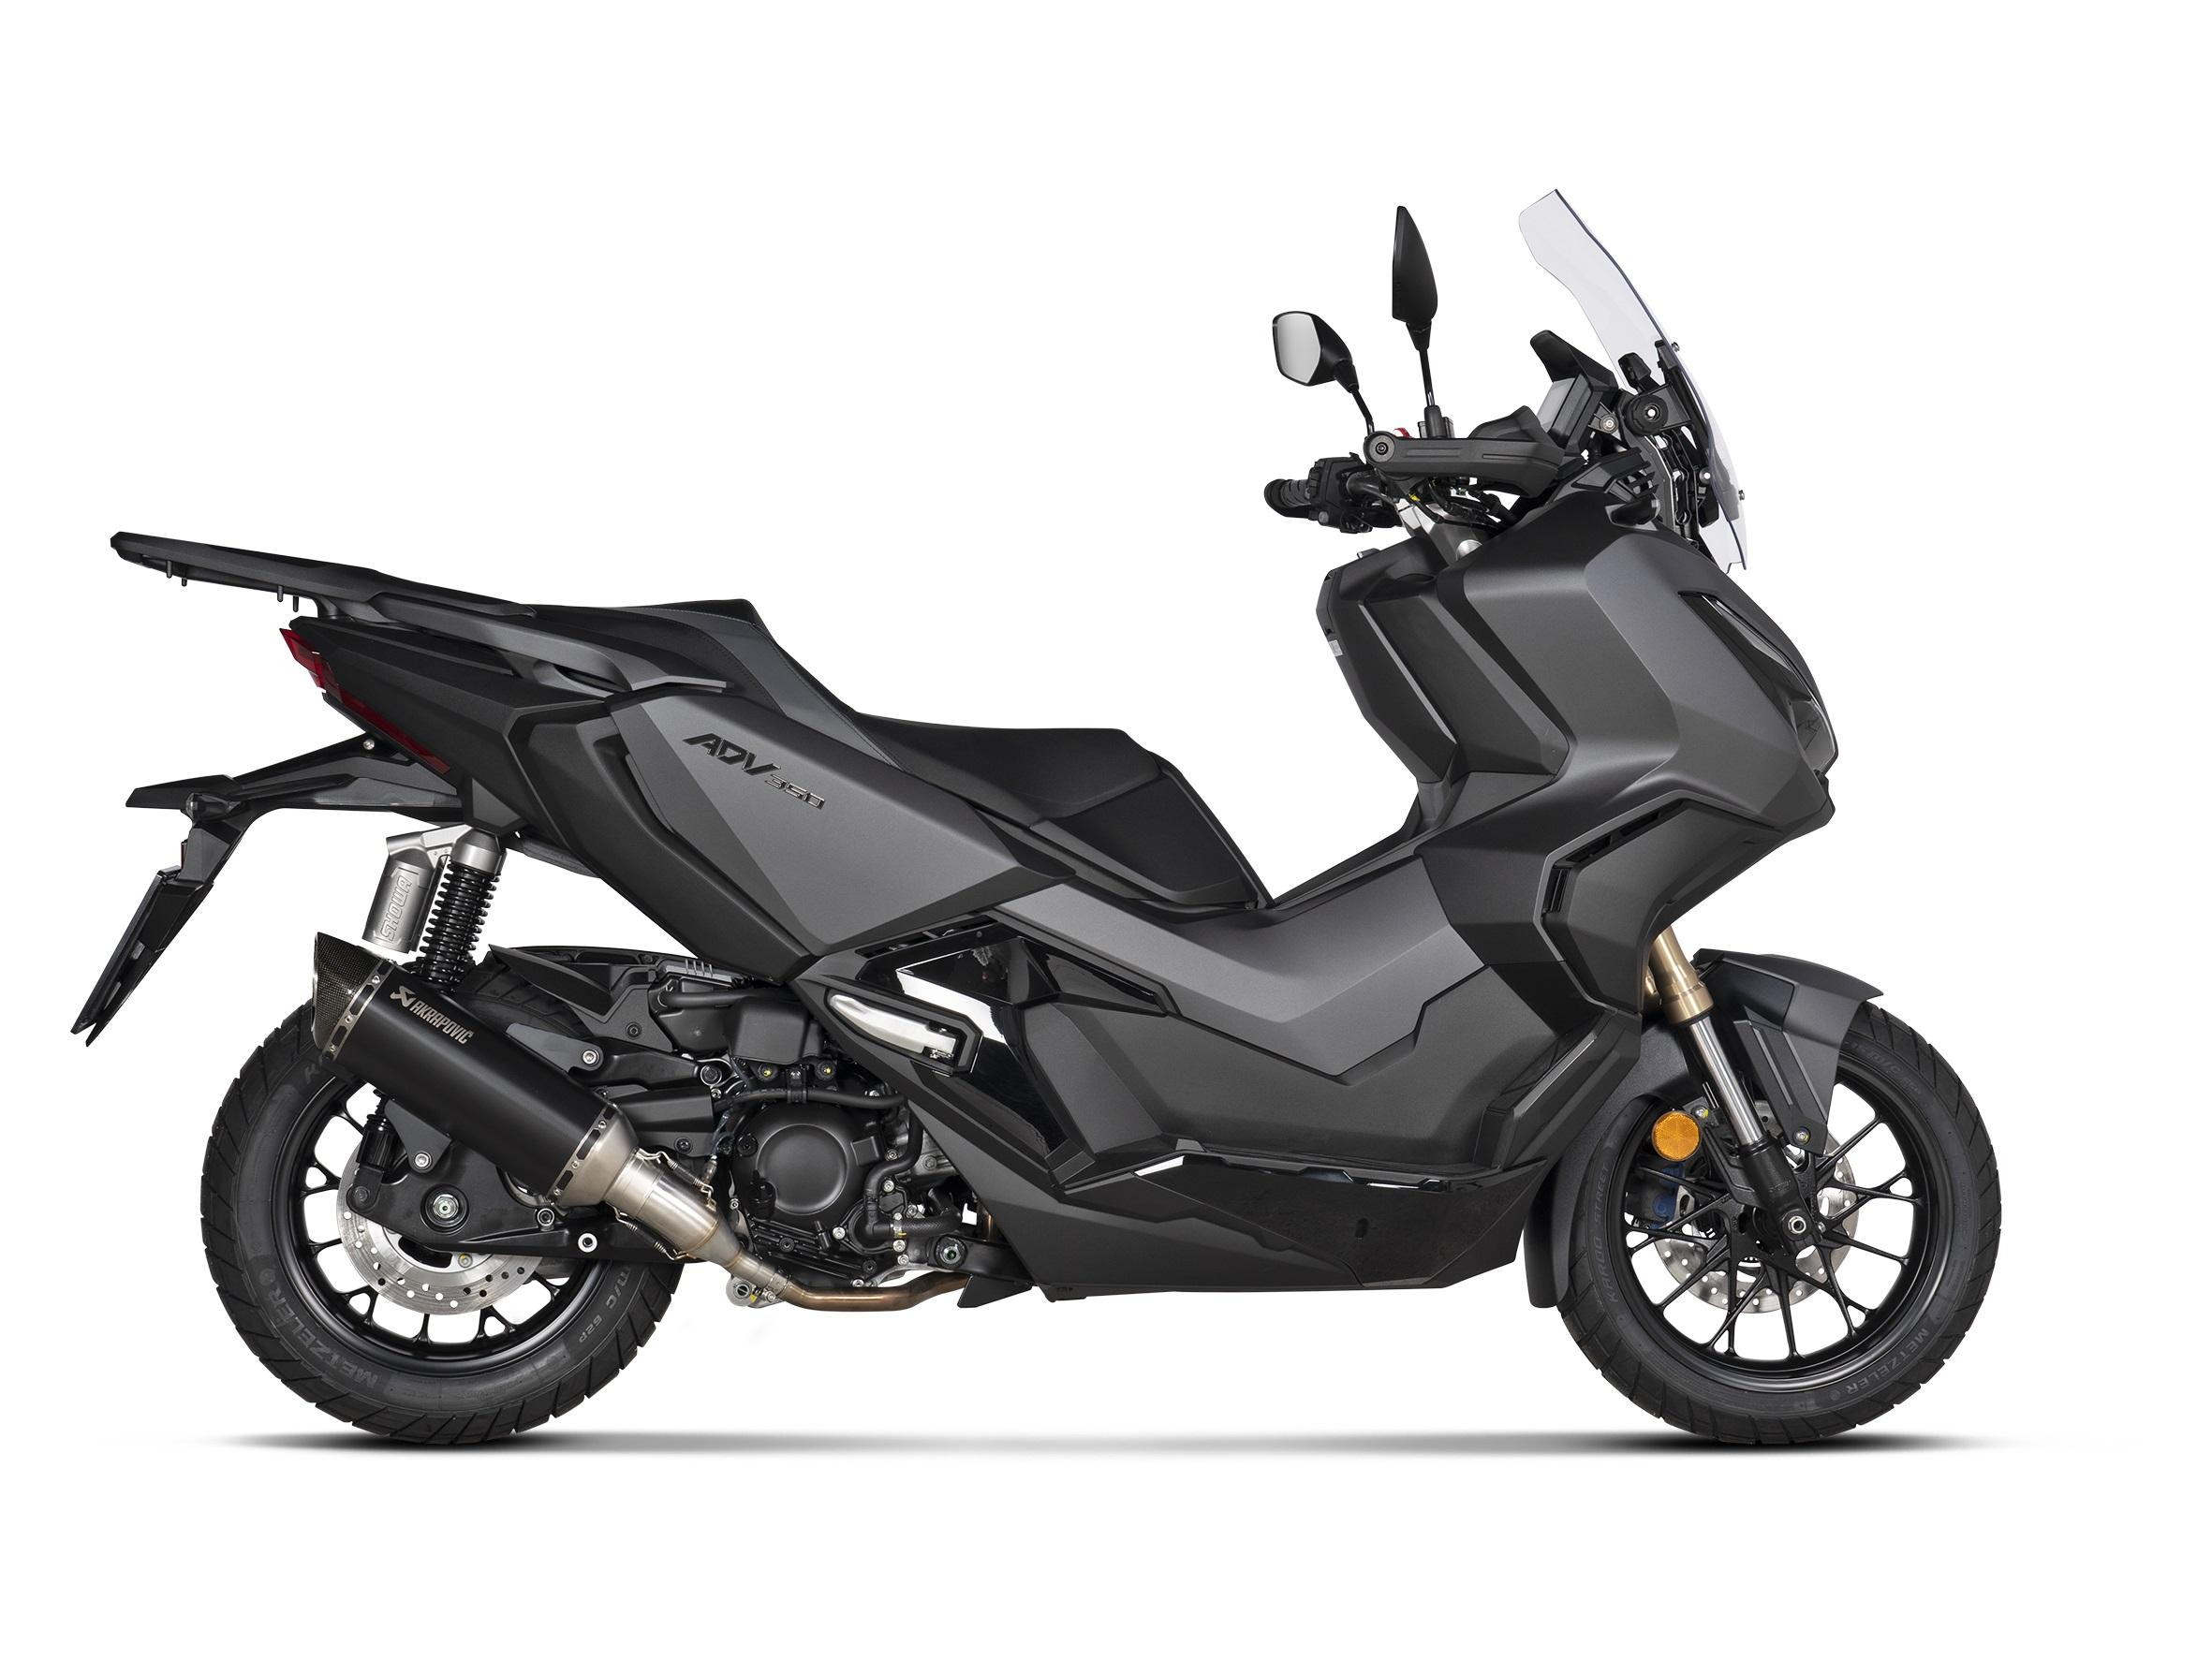engine-chasis: (730, 772, 1625, 1309), (361, 823, 509, 1000), (345, 1087, 401, 1215)
exhaust: (310, 931, 969, 1310)
frontside: (1279, 188, 1886, 1307)
handlebar: (1264, 204, 1675, 566)
motorbike: (70, 190, 2003, 1445)
rearside: (70, 532, 1075, 1216), (357, 1140, 708, 1263), (826, 986, 967, 1073)
seat: (519, 598, 1163, 828)
tank: (1147, 535, 1471, 910)
wheel: (200, 997, 685, 1445), (1557, 1000, 2003, 1446), (455, 965, 594, 1039)
